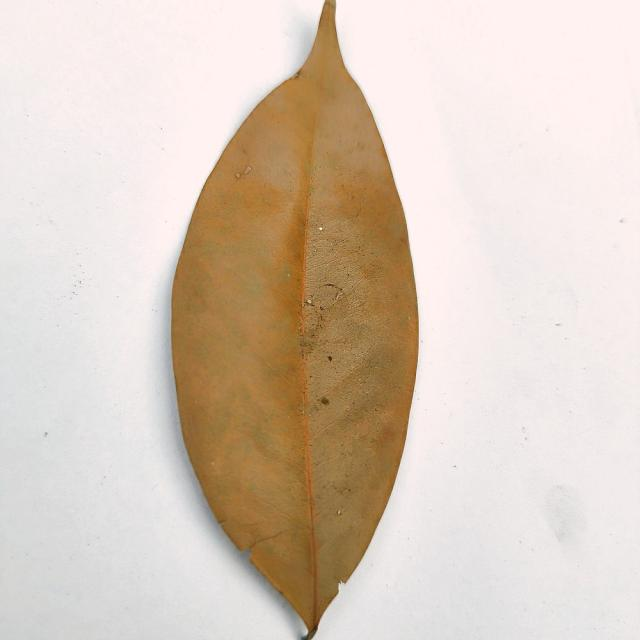Dry_Leaf-Lychee: (170, 0, 420, 638)
